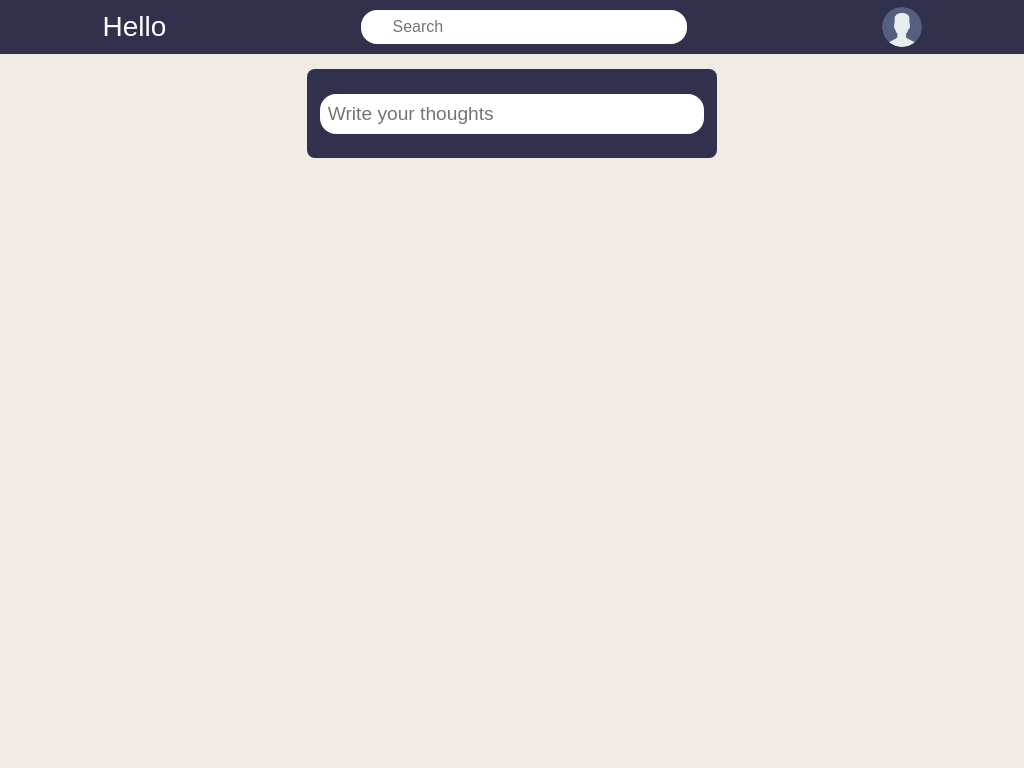
Test: MainPage component › shows modal when the post input is pressed
The width and height of the screenshot is (1024, 768).
Click the field with placeholder "Write your thoughts".
click(512, 114)  # box [320,94,704,134]
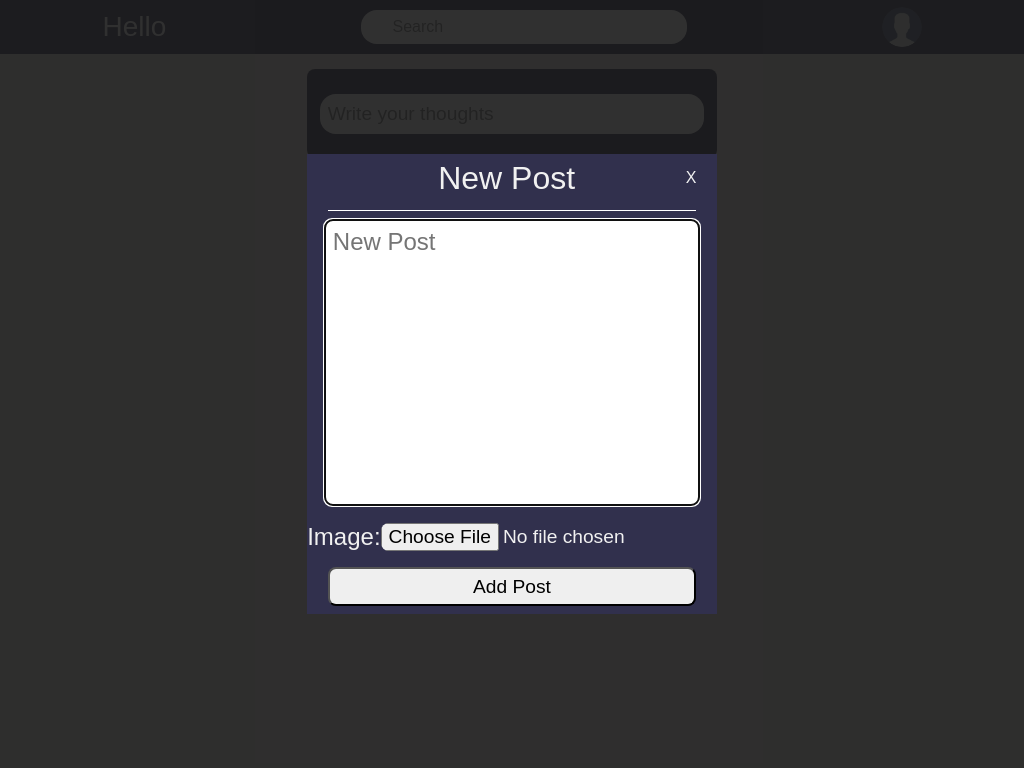
Now the heading "New Post" is shown, box [438,160,575,196]
